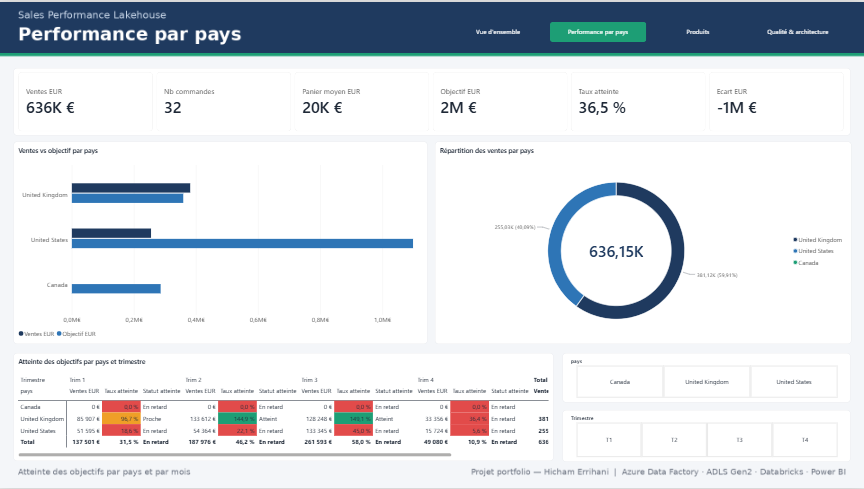

Layout of this report page (visuals, bound fields, positions):
{"tool":"powerbi","page":{"name":"Performance par pays","canvas":[1920,1080],"ordinal":1},"visuals":[{"type":"cardVisual","fields":{"Data":["_Mesures.Ventes EUR","_Mesures.Nb commandes","_Mesures.Panier moyen EUR","_Mesures.Objectif EUR","_Mesures.Taux atteinte","_Mesures.Ecart EUR"]},"box":[30,145,1860,150],"z":0},{"type":"slicer","fields":{"Values":["ventes_vs_objectifs.pays"]},"box":[1250,780,640,110],"z":1000},{"type":"slicer","fields":{"Values":["Calendrier.Trimestre"]},"box":[1250,905,640,115],"z":2000},{"type":"clusteredBarChart","title":"Ventes vs objectif par pays","fields":{"Category":["ventes_vs_objectifs.pays"],"Y":["_Mesures.Ventes EUR","_Mesures.Objectif EUR"]},"box":[30,310,920,450],"z":3000},{"type":"donutChart","title":"Répartition des ventes par pays","fields":{"Category":["ventes_vs_objectifs.pays"],"Y":["Sum(ventes_vs_objectifs.ventes_eur)"]},"box":[965,310,925,450],"z":4000},{"type":"pivotTable","title":"Atteinte des objectifs par pays et trimestre","fields":{"Columns":["Calendrier.Date.Variation.Hiérarchie de dates.Trimestre"],"Rows":["ventes_vs_objectifs.pays"],"Values":["_Mesures.Ventes EUR","_Mesures.Taux atteinte","_Mesures.Statut atteinte"]},"box":[30,780,1200,240],"z":5000},{"type":"pageNavigator","box":[990,35,900,60],"z":6000}]}

Visuals, with their boxes in screenshot pixels (x1, y1, x2, y2), scaled from the page's 1920x1080 canvas onto the 864x489 screenshot:
cardVisual - _Mesures.Ventes EUR x _Mesures.Nb commandes: x1=14 y1=66 x2=850 y2=134
slicer - ventes_vs_objectifs.pays: x1=562 y1=353 x2=850 y2=403
slicer - Calendrier.Trimestre: x1=562 y1=410 x2=850 y2=462
"Ventes vs objectif par pays" clusteredBarChart: x1=14 y1=140 x2=428 y2=344
"Répartition des ventes par pays" donutChart: x1=434 y1=140 x2=850 y2=344
"Atteinte des objectifs par pays et trimestre" pivotTable: x1=14 y1=353 x2=554 y2=462
pageNavigator: x1=446 y1=16 x2=850 y2=43
